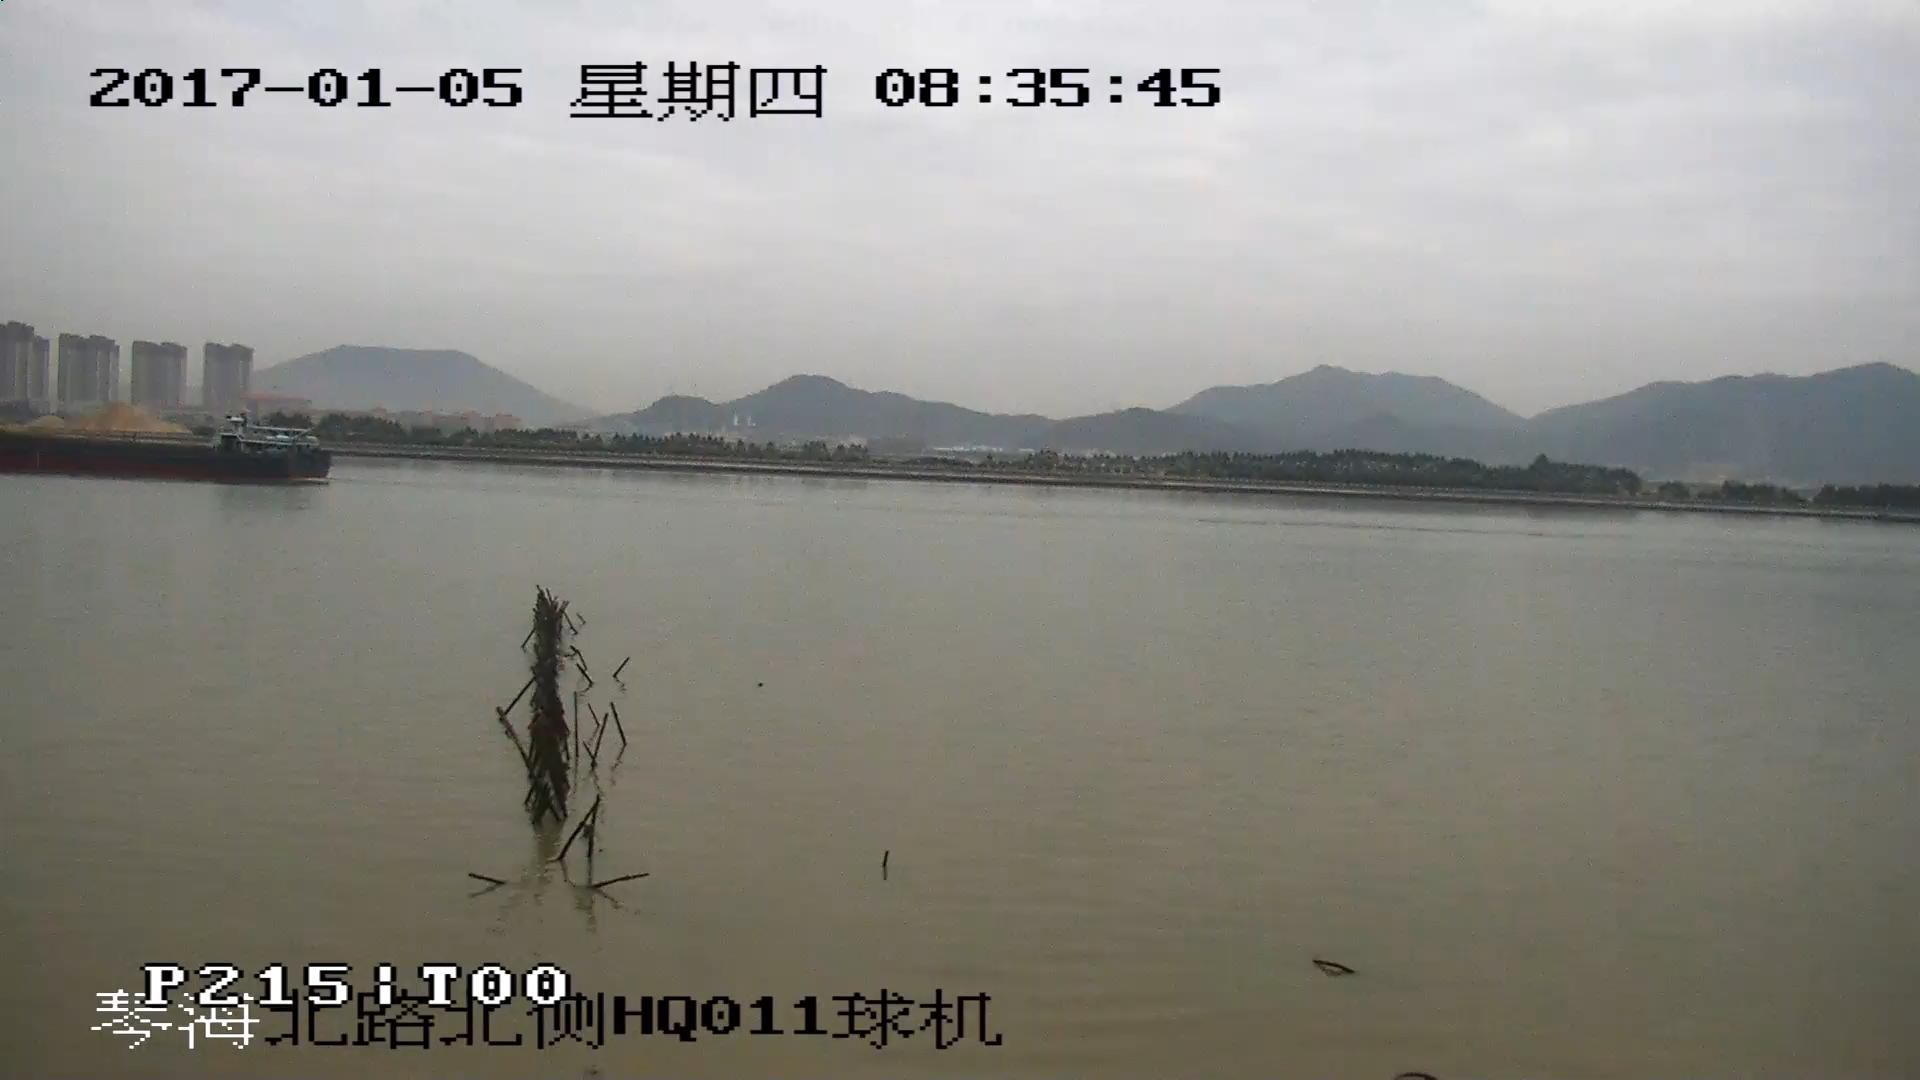bulk cargo carrier: (1, 417, 329, 483)
